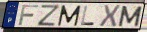F: (17, 4, 40, 27)
L: (80, 5, 96, 27)
M: (117, 5, 144, 27), (57, 5, 82, 27)
X: (98, 4, 122, 28)
Z: (37, 4, 62, 27)
